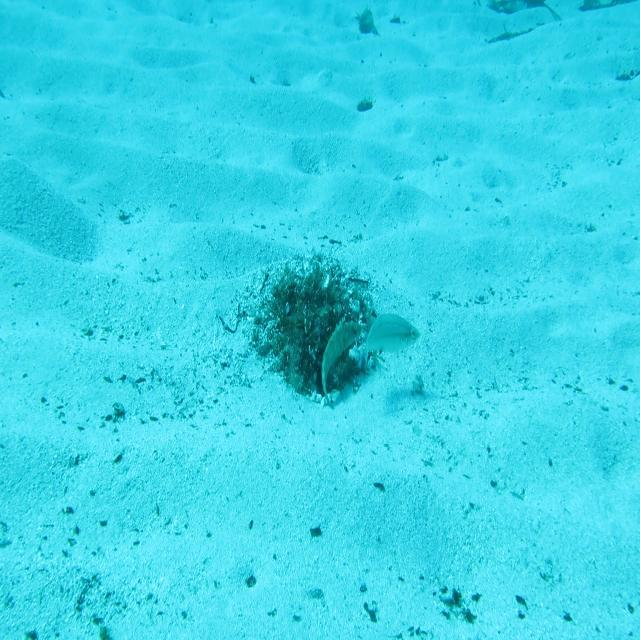BEND: (321, 311, 363, 411)
female: (358, 311, 423, 375)
nest: (247, 240, 390, 403)
